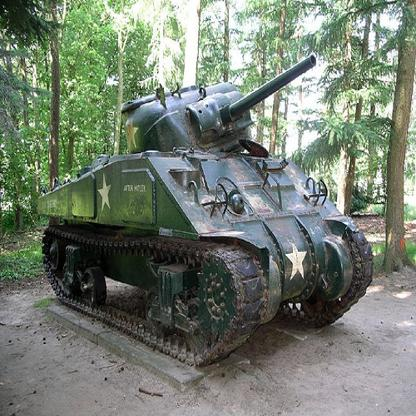Tank: (34, 54, 387, 370)
